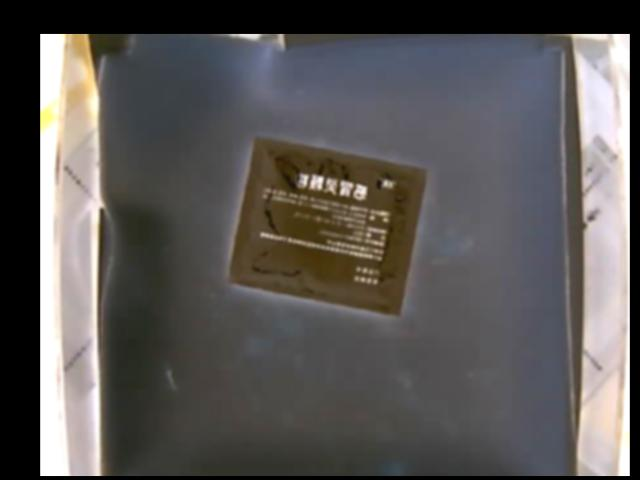Medicine: (227, 139, 433, 322)
